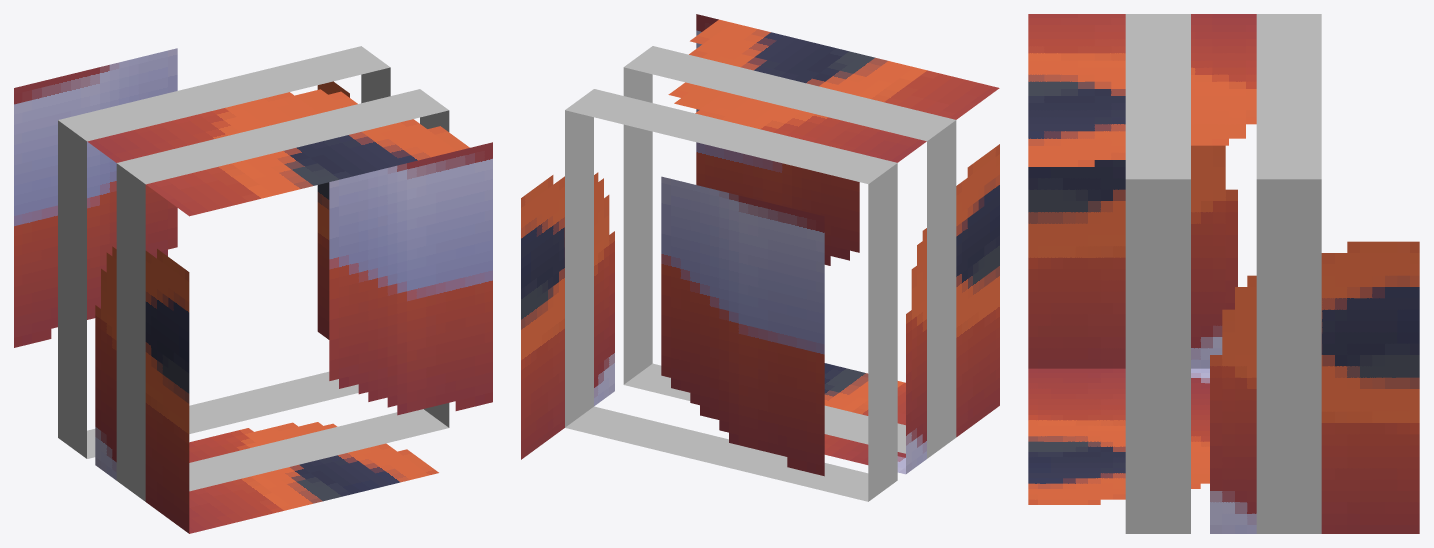
The model's file is detail-crate-ropes.obj.
3 views of the same model, side by side, from view 1: azimuth 30°, elevation 25°; view 2: azimuth 150°, elevation 25°; view 3: azimuth 270°, elevation 25° (orthographic). The views are drawn at different scales.
Visible parts, largest first — view 1: detail-crate-ropes; view 2: detail-crate-ropes; view 3: detail-crate-ropes.
Part boxes in pixels (x1,y1,x2,y2): detail-crate-ropes: (14, 46, 492, 533); detail-crate-ropes: (521, 14, 999, 501); detail-crate-ropes: (1028, 14, 1419, 533).
Bounding box in the file's own units: 0.3 × 0.3 × 0.3.
